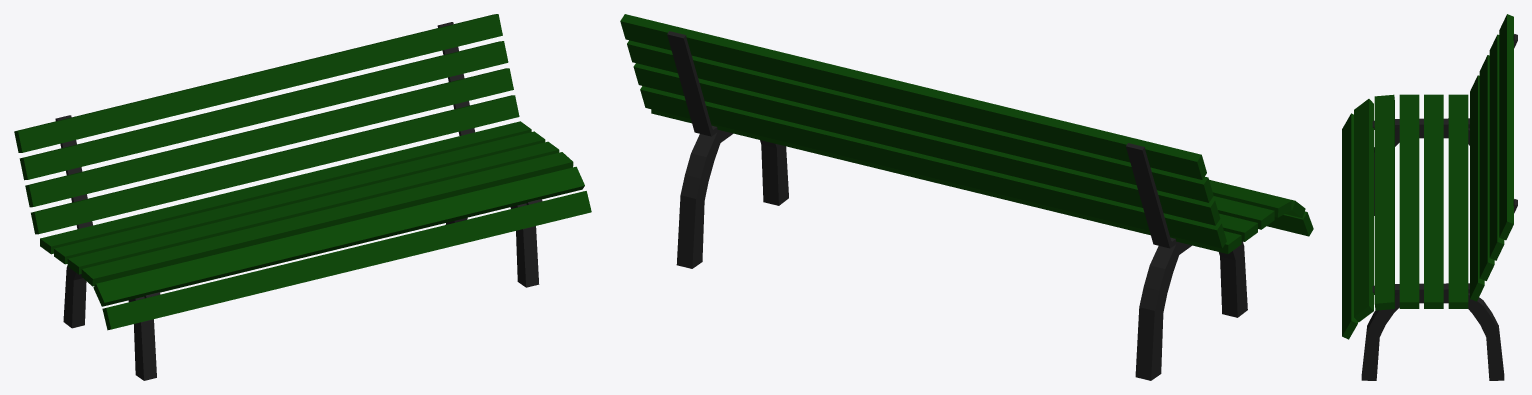
The model's file is bench_06.fbx.
3 renders of one model, left to right at view 1: azimuth 30°, elevation 25°; view 2: azimuth 150°, elevation 25°; view 3: azimuth 270°, elevation 25°, orthographic. The views are drawn at different scales.
Parts seen in each view (by area): view 1: Куб.007, Куб.018, Куб.017, Куб.015, Куб.016, Куб.019, Куб, Куб.001, Куб.003, Куб.002, Куб.005, Куб.004; view 2: Куб.016, Куб.017, Куб.015, Куб.018, Куб.005, Куб.004, Куб.002, Куб, Куб.001, Куб.019, Куб.003; view 3: Куб.001, Куб.002, Куб, Куб.003, Куб.007, Куб.016, Куб.004, Куб.019, Куб.017, Куб.015, Куб.018, Куб.005.
Part boxes in pixels (box(x1,y1,x2,y2)): Куб.007: box(93, 166, 584, 306); Куб.018: box(31, 95, 519, 234); Куб.017: box(25, 68, 513, 207); Куб.015: box(19, 41, 508, 180); Куб.016: box(14, 14, 502, 152); Куб.019: box(102, 191, 591, 330); Куб: box(81, 152, 573, 286); Куб.001: box(67, 141, 559, 274); Куб.003: box(54, 131, 545, 264); Куб.002: box(40, 121, 531, 254); Куб.005: box(55, 115, 160, 380); Куб.004: box(437, 22, 542, 287); Куб.016: box(620, 14, 1206, 179); Куб.017: box(633, 63, 1220, 225); Куб.015: box(627, 40, 1213, 202); Куб.018: box(640, 86, 1226, 248); Куб.005: box(1126, 143, 1247, 380); Куб.004: box(667, 31, 788, 268); Куб.002: box(651, 109, 1241, 253); Куб: box(1209, 181, 1291, 217); Куб.001: box(1211, 196, 1274, 229); Куб.019: box(1267, 211, 1313, 236); Куб.003: box(1218, 213, 1257, 241); Куб.001: box(1399, 94, 1419, 308); Куб.002: box(1448, 94, 1468, 308); Куб: box(1374, 94, 1394, 310); Куб.003: box(1424, 94, 1443, 308); Куб.007: box(1354, 99, 1373, 322); Куб.016: box(1499, 14, 1513, 240); Куб.004: box(1361, 199, 1517, 380); Куб.019: box(1342, 113, 1357, 339); Куб.017: box(1479, 55, 1494, 280); Куб.015: box(1489, 34, 1504, 260); Куб.018: box(1470, 75, 1484, 301); Куб.005: box(1372, 34, 1517, 215).
Size of the model in its own units: 256 by 102 by 91.58.
